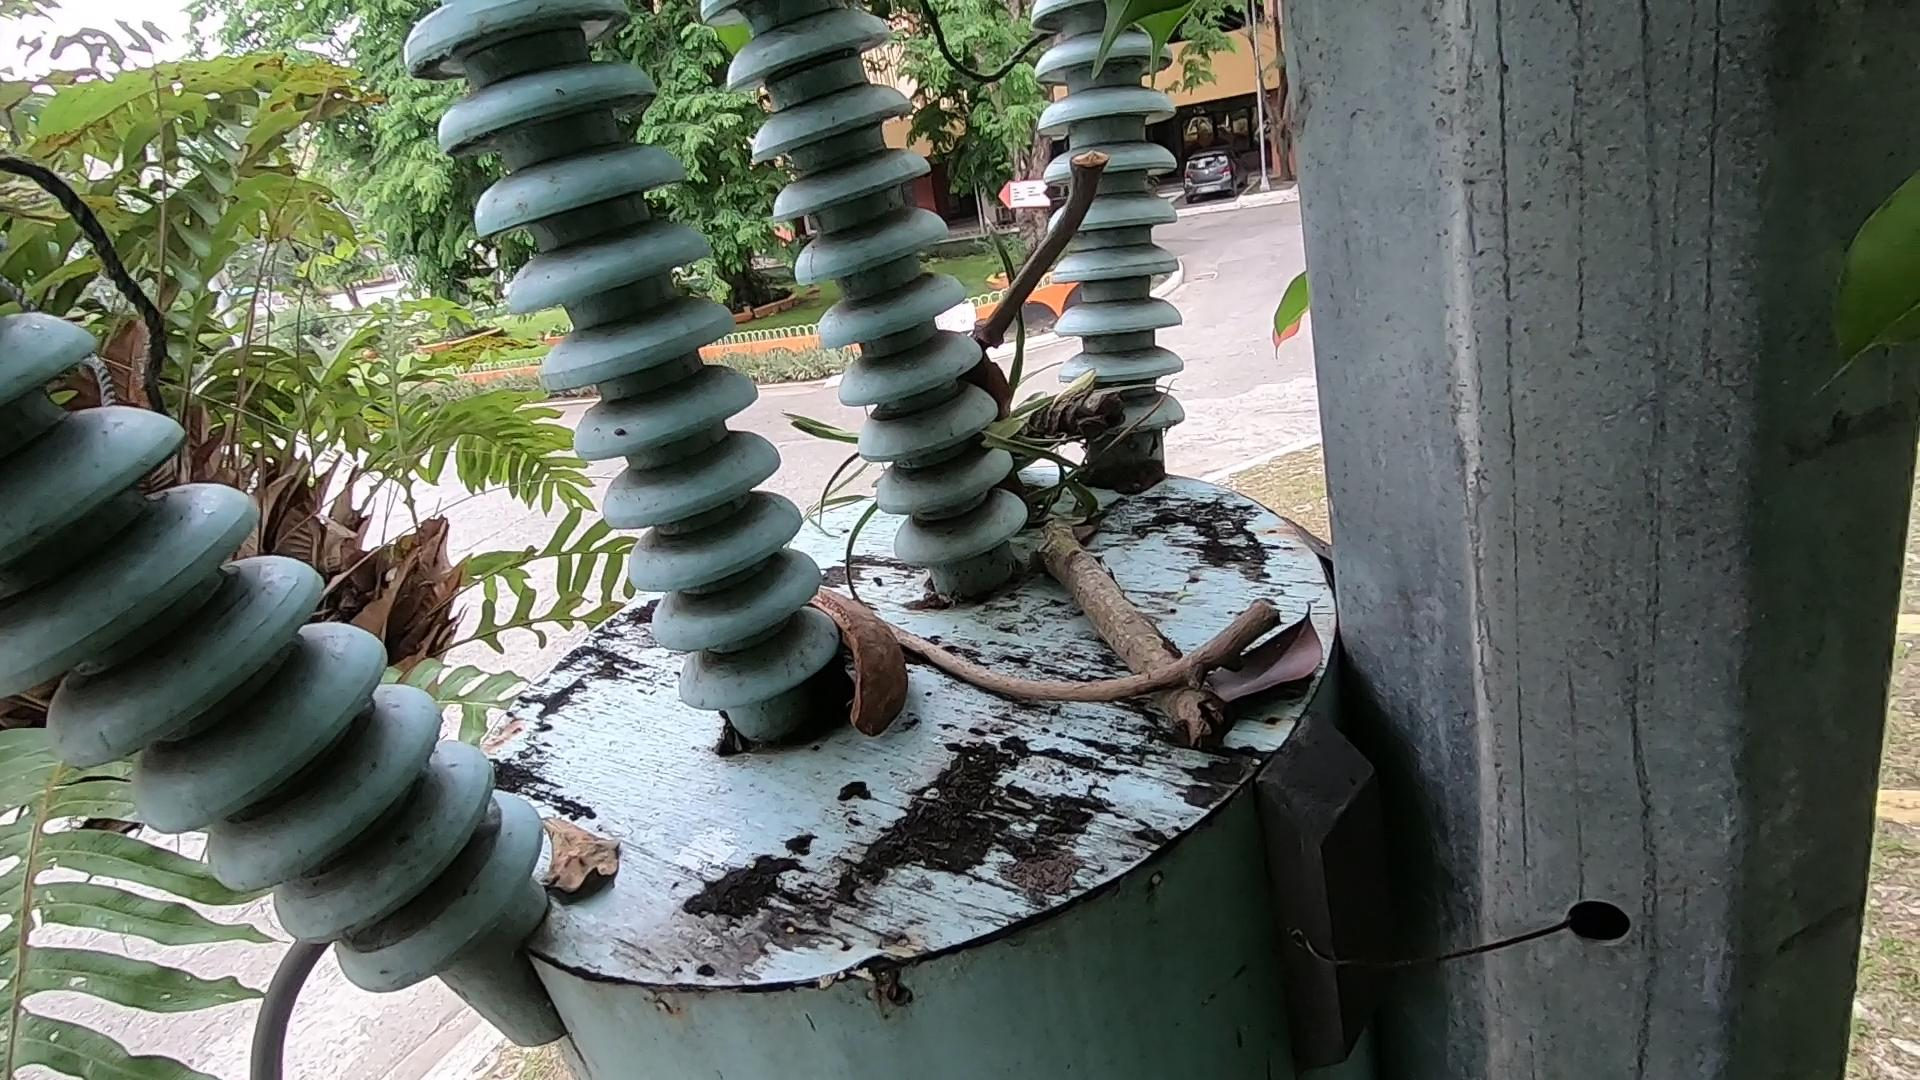branch with leaves: (976, 340, 1220, 771)
leaf: (512, 778, 679, 932), (1208, 574, 1329, 723)
mahogany fruit: (771, 555, 881, 789), (976, 315, 1062, 568)
tree branch: (887, 102, 1124, 426), (868, 584, 1316, 740)
